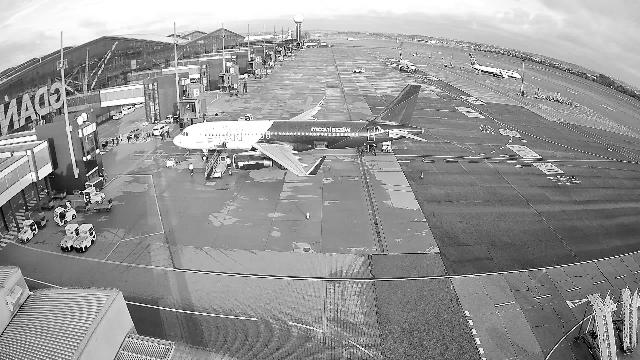Aircraft: (173, 83, 428, 176), (469, 53, 522, 79), (383, 51, 427, 70)
Airport_Tractor: (73, 223, 97, 252), (60, 223, 80, 252), (18, 220, 39, 244), (54, 207, 77, 226), (84, 186, 105, 204), (238, 114, 254, 121)
Baggage_Trolley: (85, 176, 104, 190), (93, 198, 112, 212), (72, 200, 90, 213), (41, 196, 56, 210), (32, 215, 46, 229), (52, 190, 66, 200)
Conveyor_Belt: (204, 151, 230, 179), (205, 106, 222, 116)
Ground_Crew: (188, 163, 194, 176), (226, 157, 231, 168), (65, 201, 71, 207)
Passengers: (159, 131, 165, 141), (146, 133, 151, 142), (127, 135, 132, 143), (166, 130, 171, 138), (115, 137, 119, 145), (135, 135, 139, 142), (103, 142, 106, 151), (119, 134, 122, 142), (152, 133, 155, 141), (112, 138, 115, 145), (105, 141, 108, 148)
Pushback_Tug: (353, 68, 365, 73)
